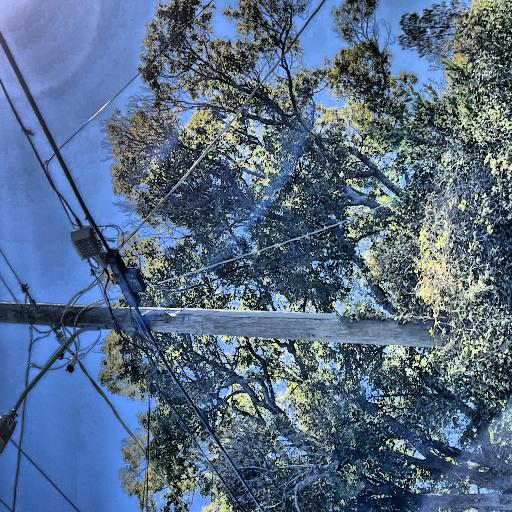pole: (25, 0, 102, 512)
street light: (0, 98, 67, 232)
